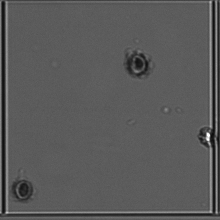Dead Cell: (121, 45, 159, 83), (9, 173, 40, 204)
Living Cell: (199, 125, 214, 147)
